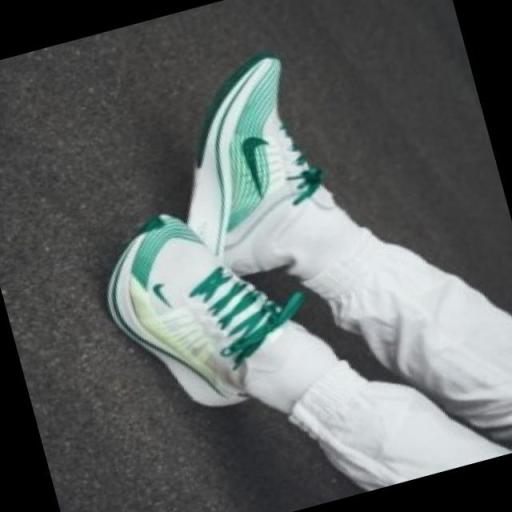Nike: (232, 128, 286, 205)
